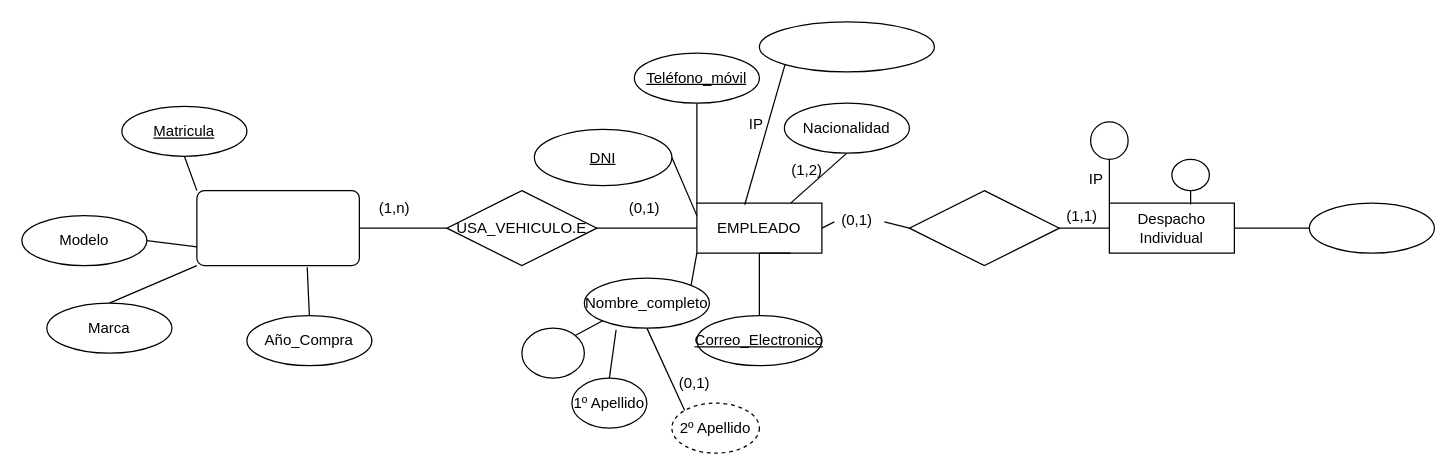
The diagram is 1456 pixels wide and 475 high, and some of its shapes have lost their labels. The box of each missing label's shape, as (x1, y1, x2, y2) in pixels:
COCHE_EMPRESA: (196, 189, 359, 266)
CODIGO_EMPLEADO: (758, 21, 934, 72)
ID: (1089, 121, 1128, 159)
m^2: (1171, 158, 1209, 191)
Nombre: (521, 327, 584, 378)
OCUPA_UN: (908, 189, 1059, 266)
Teléfono_fijo: (1308, 202, 1434, 253)
